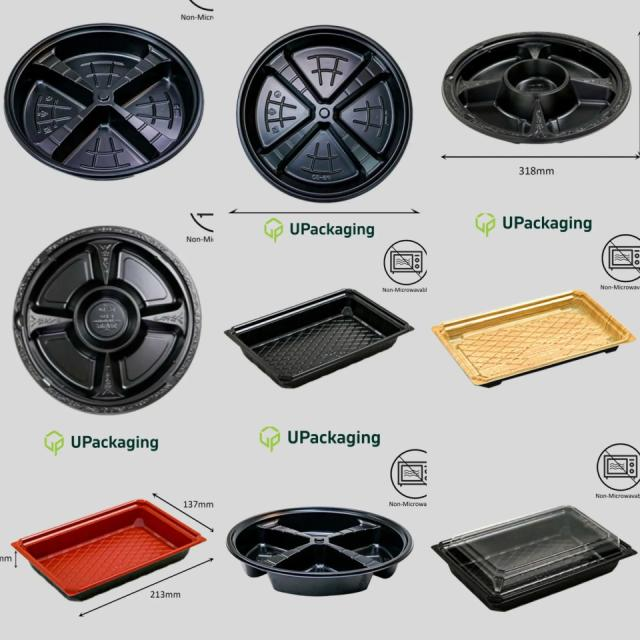Single-Use-Plastic: (14, 226, 201, 414), (5, 24, 202, 179), (238, 26, 411, 201), (432, 506, 635, 611), (442, 32, 630, 142), (432, 290, 635, 386), (12, 500, 205, 600), (225, 289, 412, 388), (228, 508, 412, 596)
